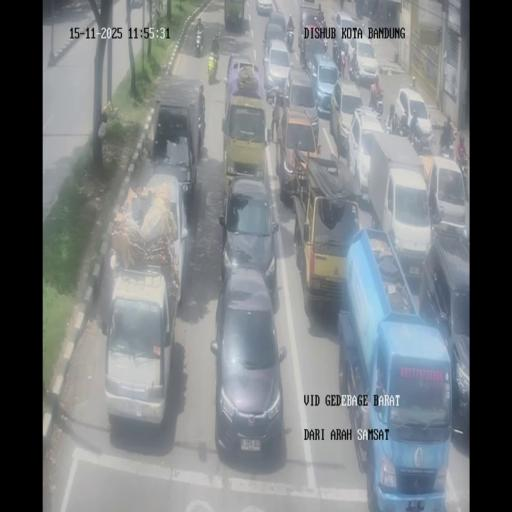car: (211, 269, 286, 464), (102, 264, 177, 432), (217, 176, 279, 300), (134, 173, 192, 305), (221, 94, 268, 198), (276, 106, 320, 202), (426, 155, 467, 233), (310, 52, 340, 118), (263, 40, 292, 100), (348, 37, 378, 87), (300, 12, 326, 64), (263, 7, 287, 39), (255, 0, 272, 15)
motorcycle: (335, 35, 349, 69), (457, 150, 469, 181), (440, 137, 456, 160), (207, 51, 218, 83), (395, 119, 412, 139), (194, 24, 204, 57), (368, 2, 382, 24), (372, 92, 384, 117), (409, 112, 419, 140), (424, 130, 436, 152), (412, 134, 424, 154), (286, 26, 294, 52), (212, 32, 219, 55), (266, 90, 276, 106), (317, 6, 325, 25), (301, 9, 308, 27), (322, 36, 328, 54)
truck: (338, 232, 450, 507), (296, 157, 364, 315), (364, 134, 430, 264), (150, 79, 206, 202), (224, 0, 247, 30)
